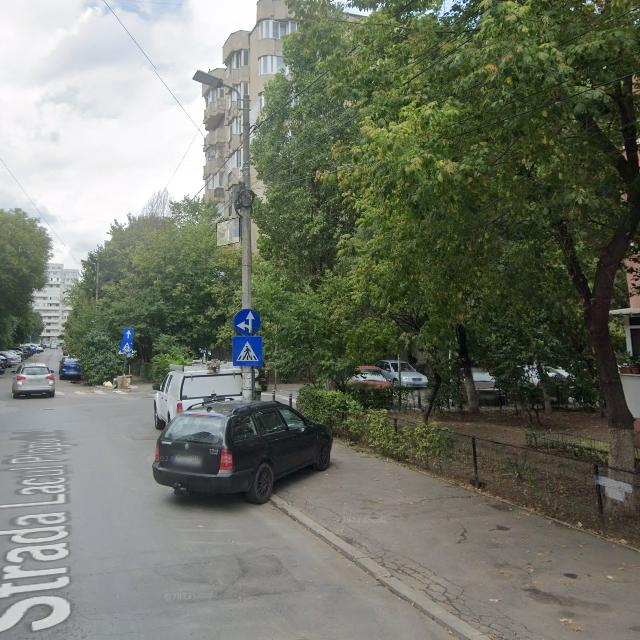info_crosswalk: (232, 336, 264, 366), (120, 341, 134, 354)
info_one_way_traffic: (122, 329, 134, 340)
mand_straigh_left: (233, 308, 261, 336)
mand_straight: (234, 308, 262, 336)
